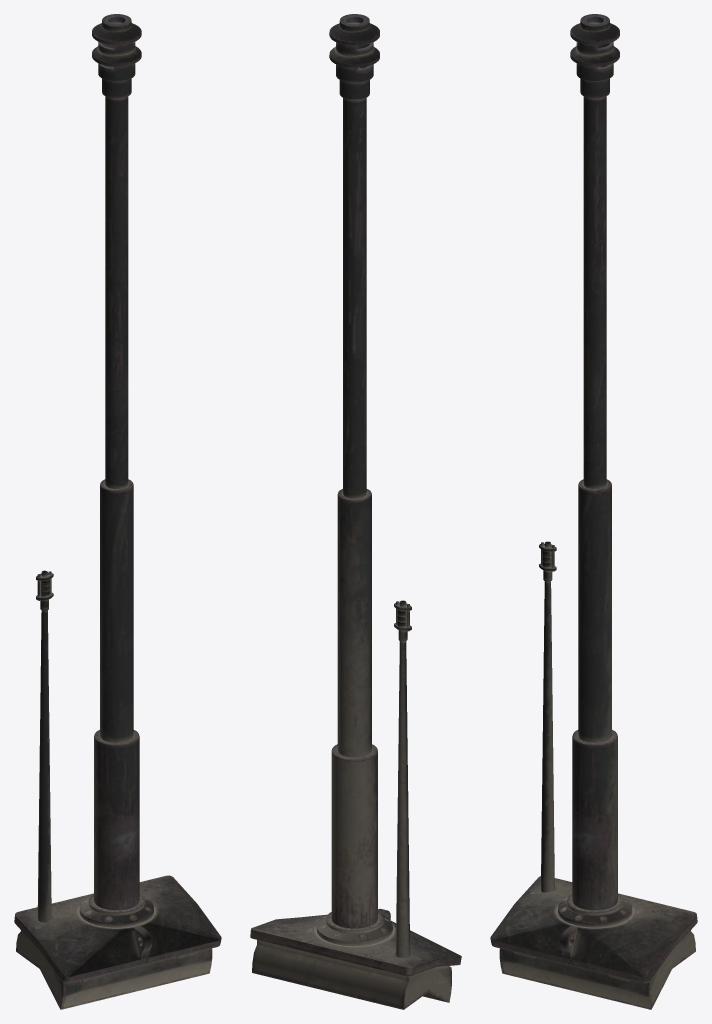
The model's file is Gun_02.glb.
3 views of the same model, side by side, from view 1: azimuth 30°, elevation 25°; view 2: azimuth 150°, elevation 25°; view 3: azimuth 330°, elevation 25° (orthographic). The views are drawn at different scales.
Parts seen in each view (by area): view 1: set_0_group_0; view 2: set_0_group_0; view 3: set_0_group_0.
Part boxes in pixels (x1,y1,x2,y2): set_0_group_0: [14, 14, 221, 1009]; set_0_group_0: [250, 14, 461, 1009]; set_0_group_0: [490, 14, 697, 1009].
Size of the model in its own units: 0.9109 by 5.29 by 0.5804.
1 material, 1 textured.
